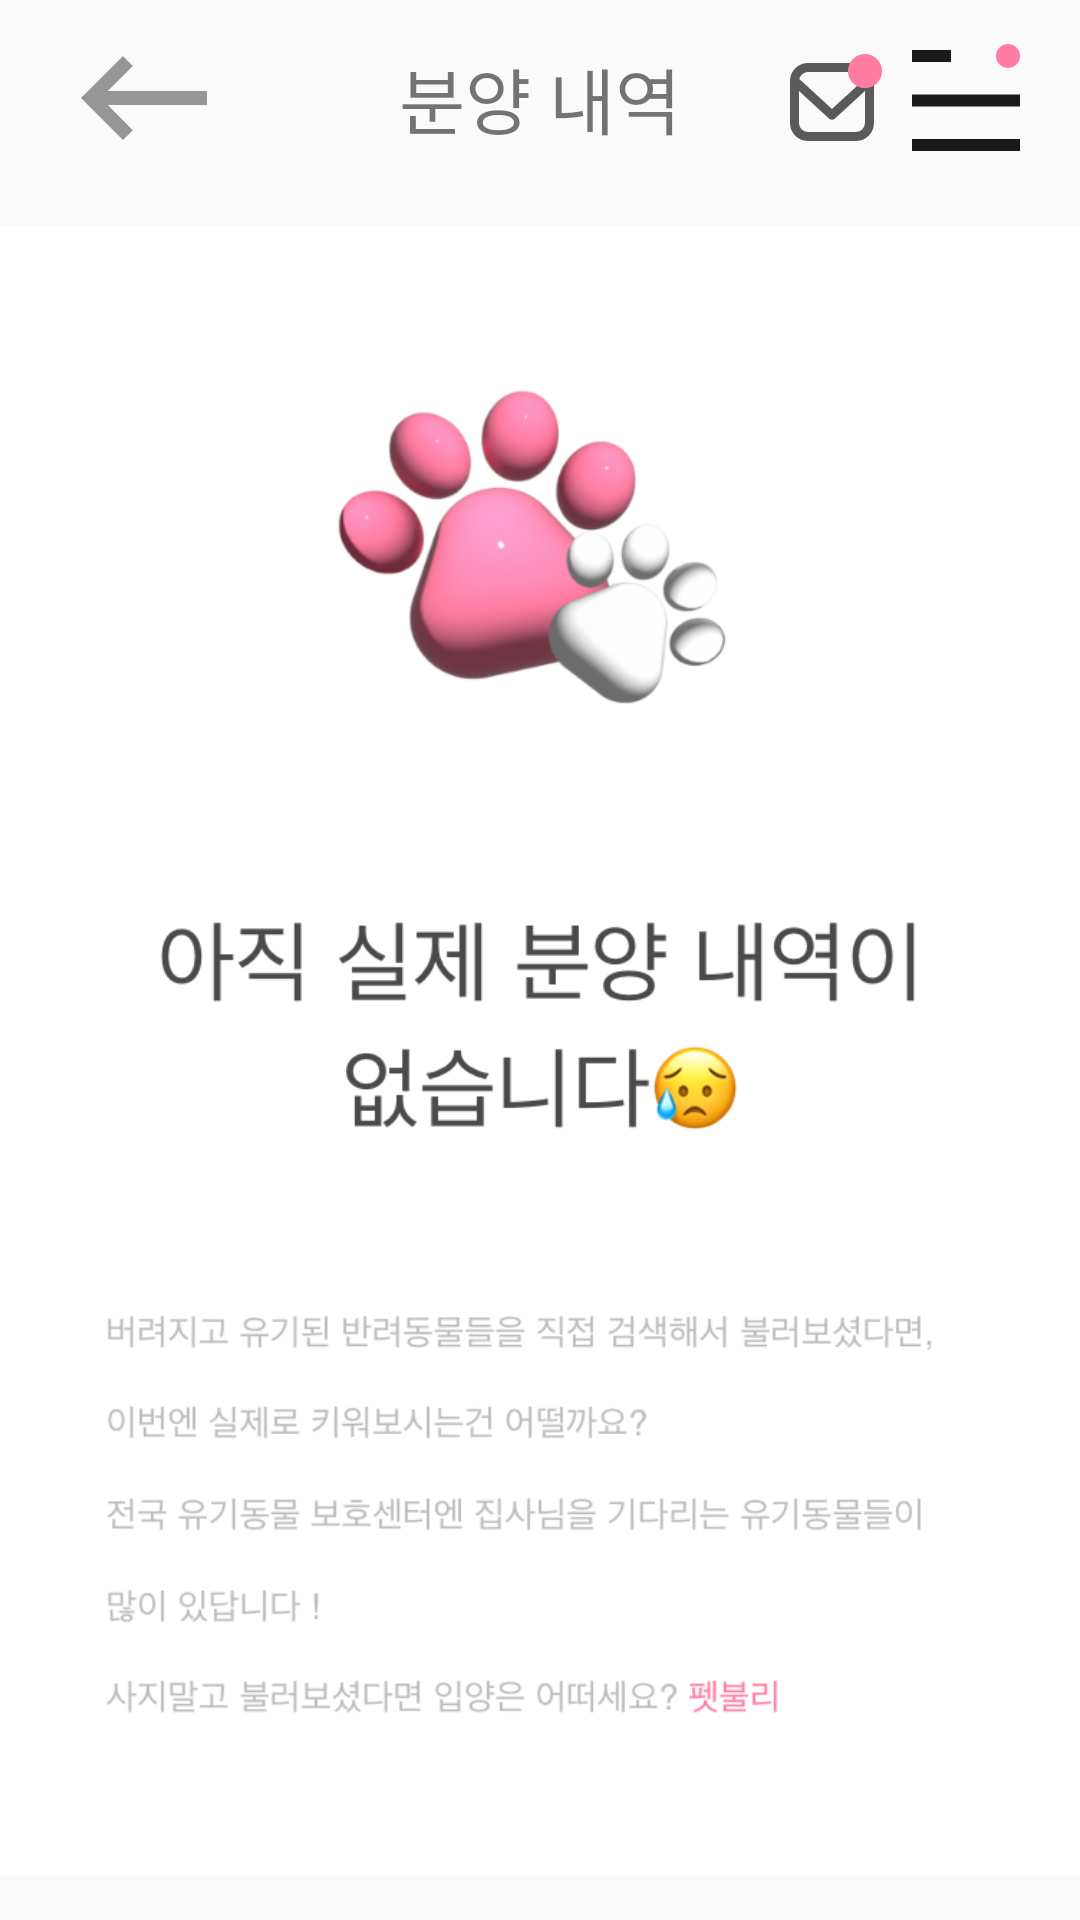

Where to tap for icons on this 1080×1920 app screen, as (x,y):
back: (144,98)
menu: (966,97)
